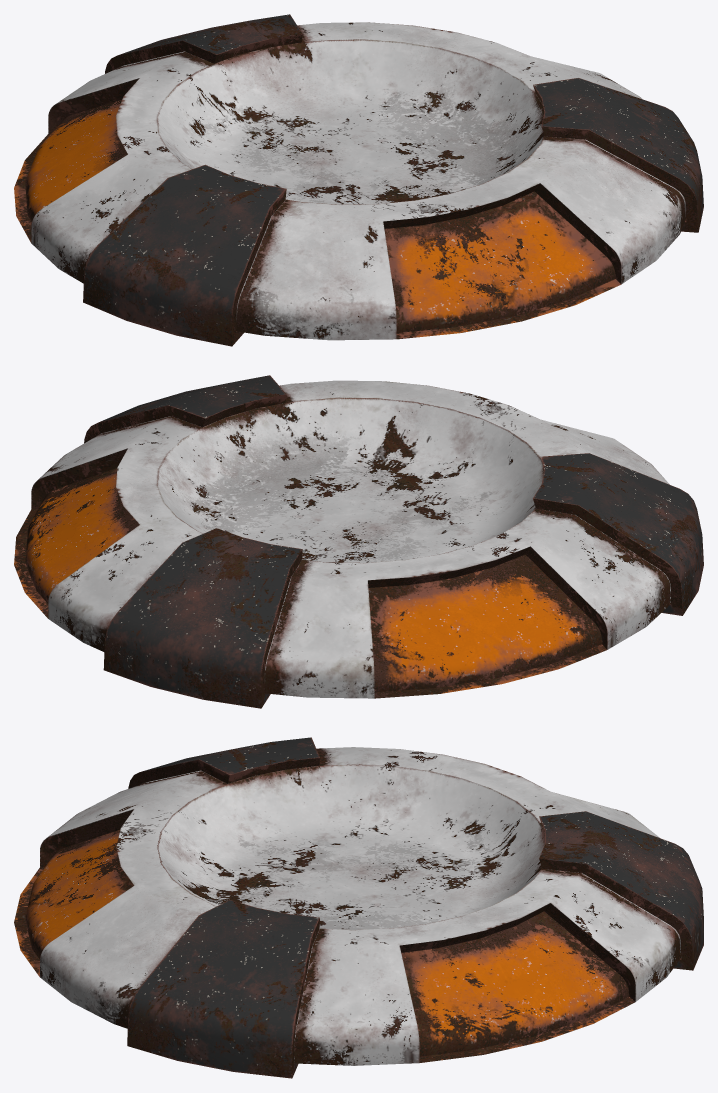
File: MTS_Nido_Nave.FBX
3 views of the same model, one above another, from view 1: azimuth 30°, elevation 25°; view 2: azimuth 150°, elevation 25°; view 3: azimuth 270°, elevation 25° (orthographic).
Visible parts, largest first — view 1: SCH_Nido_Nave; view 2: SCH_Nido_Nave; view 3: SCH_Nido_Nave.
Part boxes in pixels (<box>): SCH_Nido_Nave: <box>14,14,703,346</box>; SCH_Nido_Nave: <box>14,375,703,708</box>; SCH_Nido_Nave: <box>14,737,703,1078</box>.
Bounding box in the file's own units: 167 × 25.31 × 166.
Materials: 1 (1 with a texture image).
